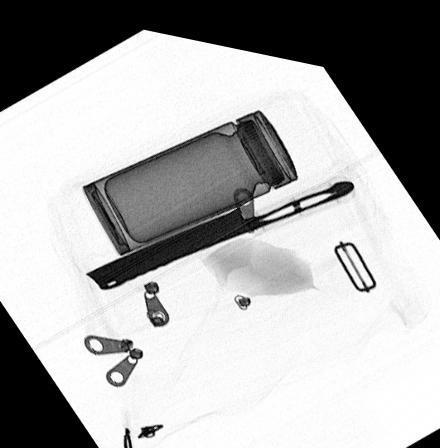Knife: (83, 163, 359, 286)
